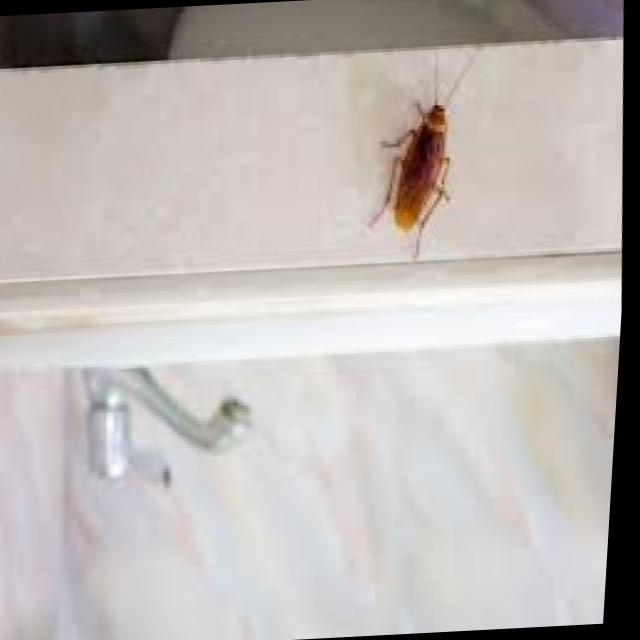Cockroach: (356, 48, 508, 280)
